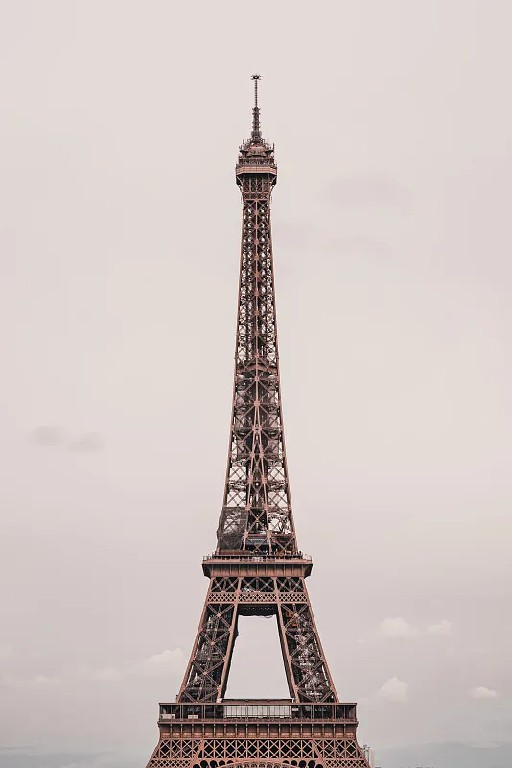Eiffel: (142, 74, 374, 768)
